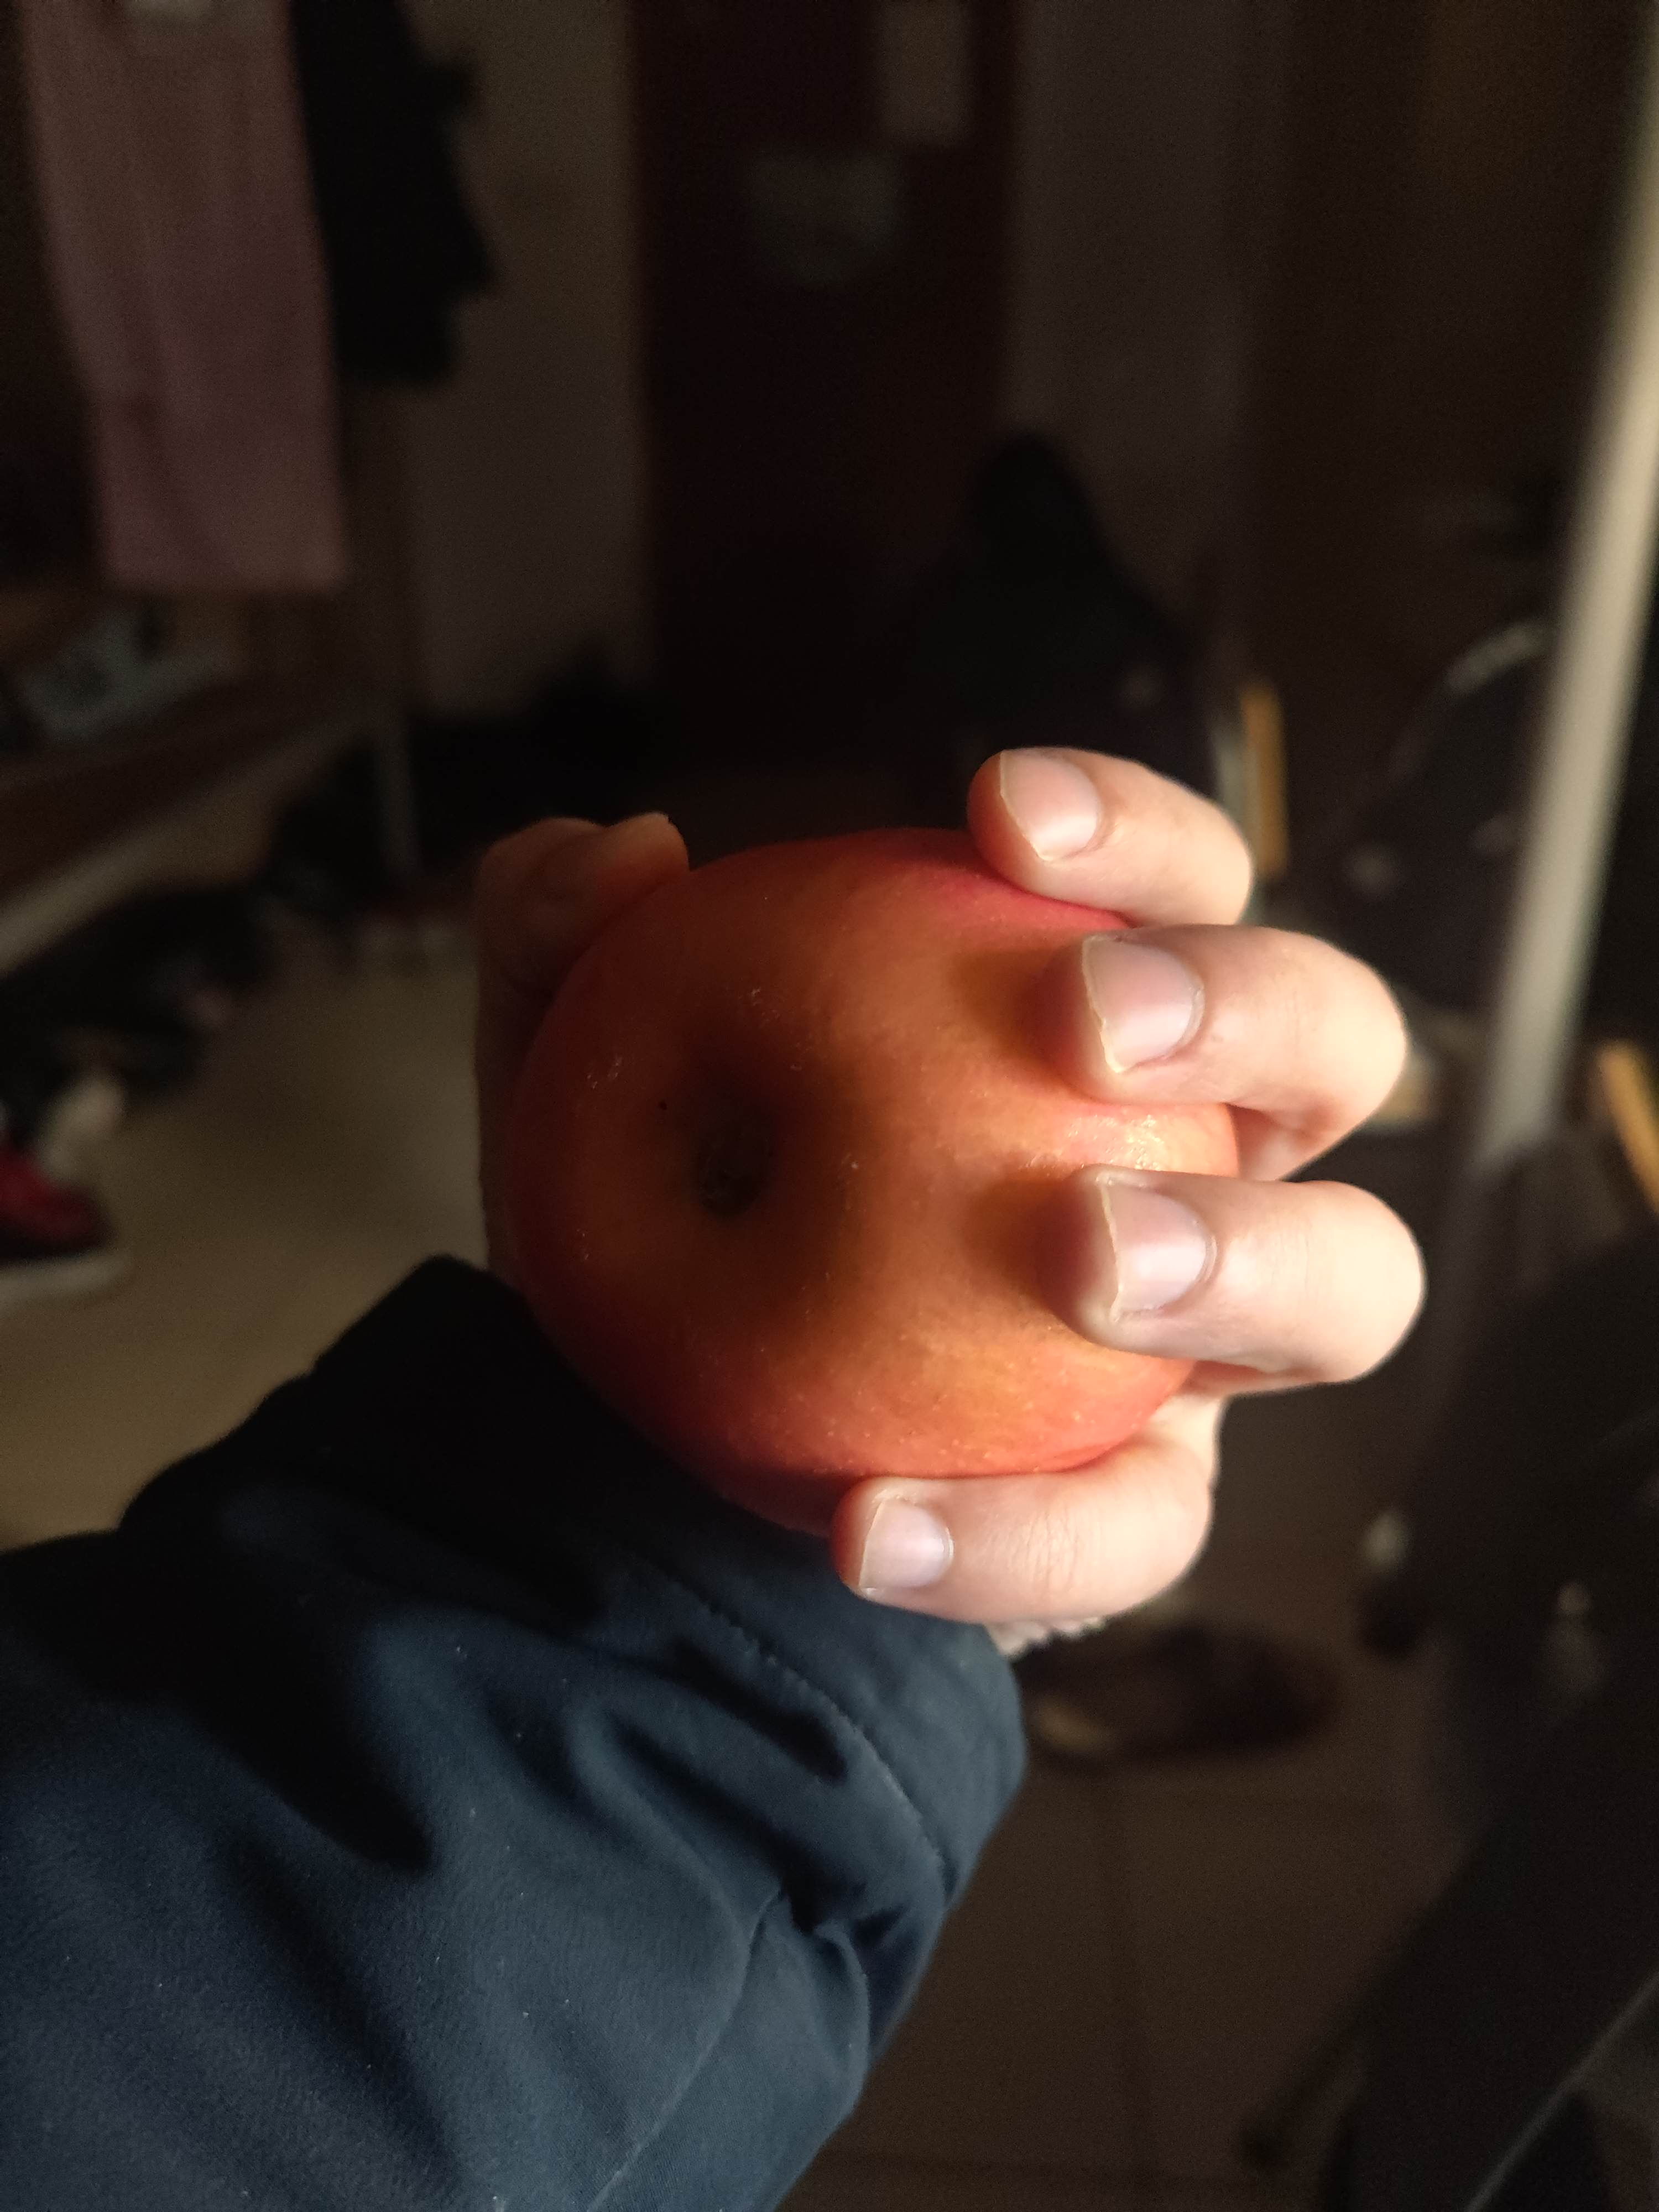apple: (486, 827, 1239, 1517)
